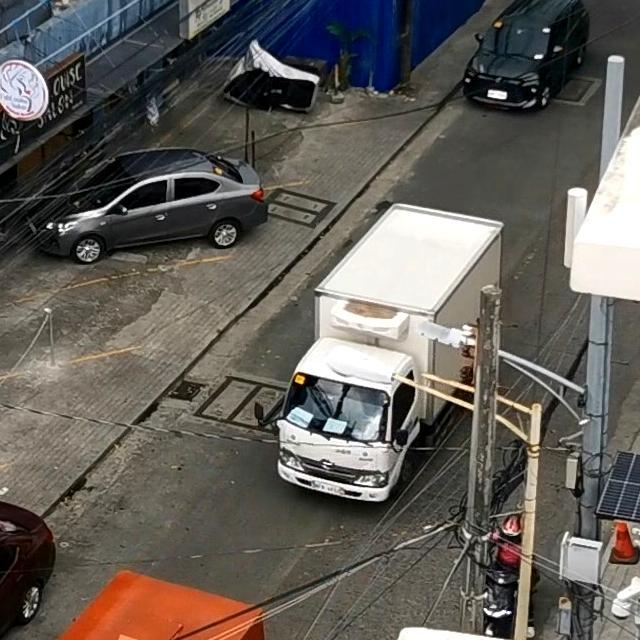Truck: (276, 197, 484, 481), (0, 552, 317, 640)
